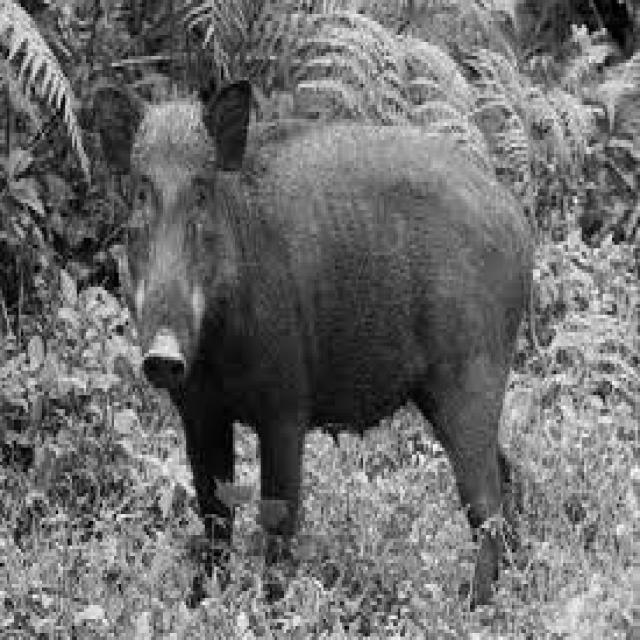boar: (92, 79, 533, 607)
